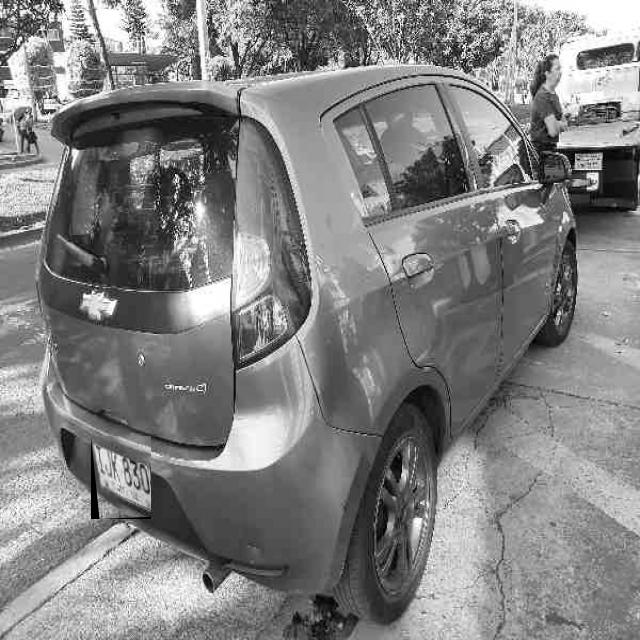plate: (92, 437, 151, 515)
